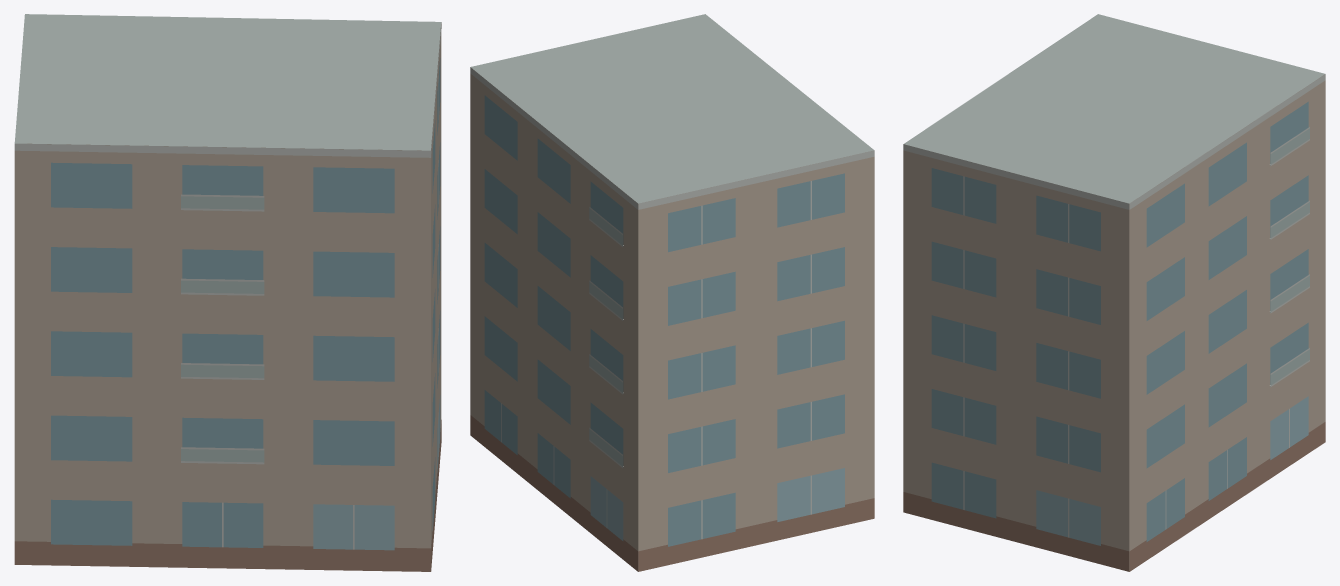
The model's file is survey-upis-32887662.glb.
3 views of the same model, side by side, from view 1: azimuth 30°, elevation 25°; view 2: azimuth 150°, elevation 25°; view 3: azimuth 270°, elevation 25° (orthographic). The views are drawn at different scales.
Parts seen in each view (by area): view 1: survey-upis-32887662.tmp; view 2: survey-upis-32887662.tmp; view 3: survey-upis-32887662.tmp.
Boxes of the visible parts, x1,y1,x2,y2 form: survey-upis-32887662.tmp: [14, 14, 441, 571]; survey-upis-32887662.tmp: [470, 14, 874, 571]; survey-upis-32887662.tmp: [903, 14, 1325, 571].
Size of the model in its own units: 15.69 by 14.2 by 14.76.
